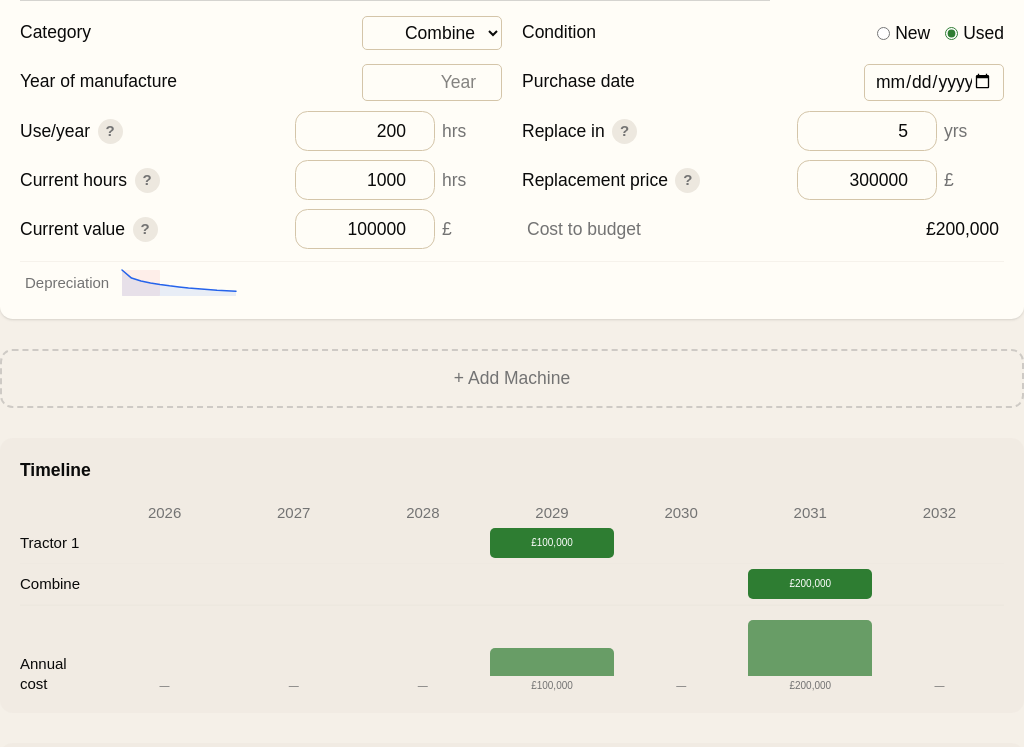
Test: ReplacementPlanner › adds a new machine
(page scrolled)
What coordinates should you click on to do the following:
click the button "+ Add Machine"
I would click on:
 (512, 378)
Its box is [0,349,1023,408].
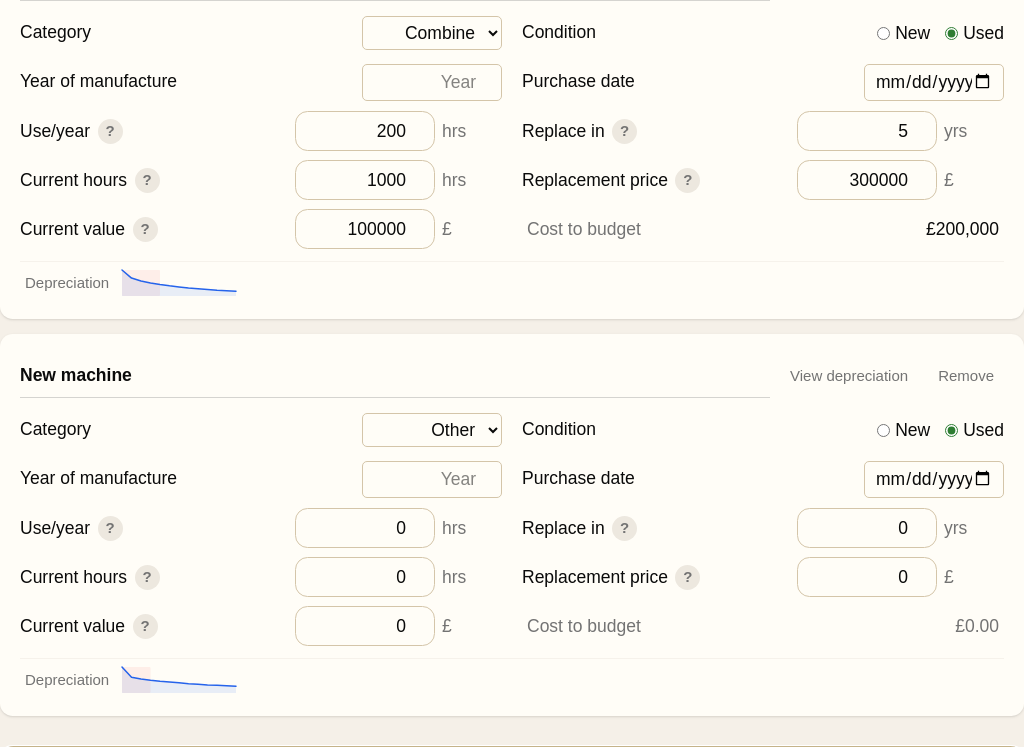
Expected: the 2nd field showing "New machine" is shown, [20,354,770,398]
